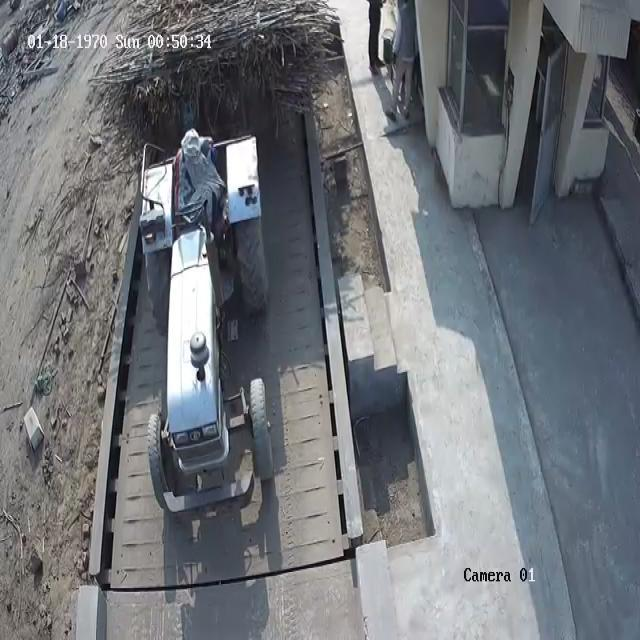Tratores - v5 YOLO V8L 2024-11-13: (130, 134, 281, 526)
